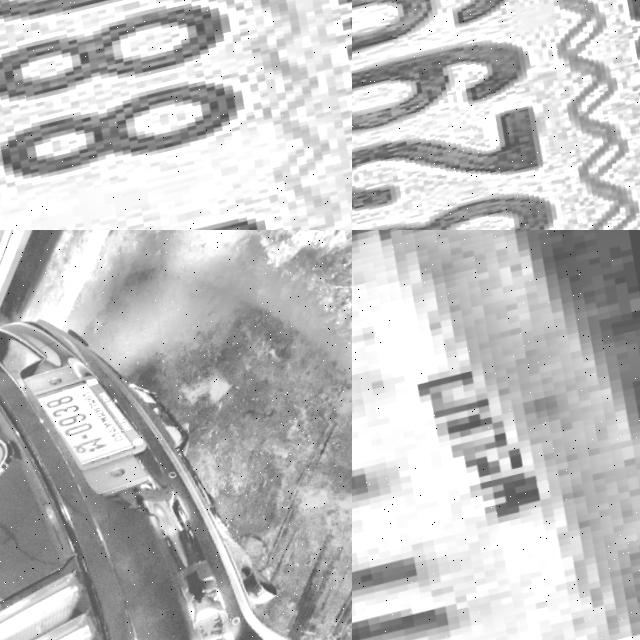license-plate: (352, 230, 640, 640), (0, 0, 352, 230), (352, 0, 640, 230), (27, 366, 155, 485)
